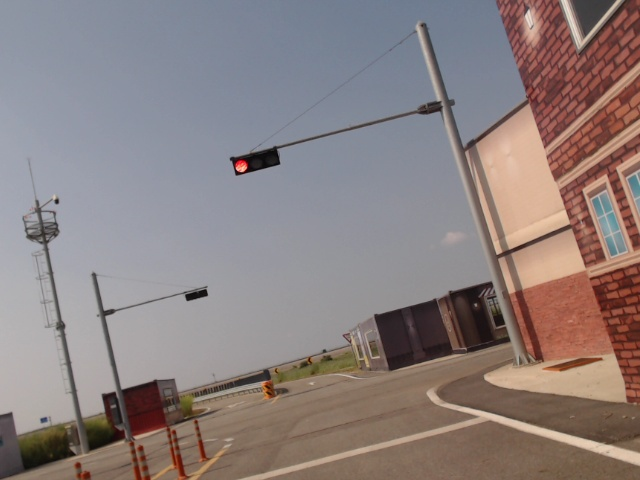red_3: (233, 146, 279, 176)
